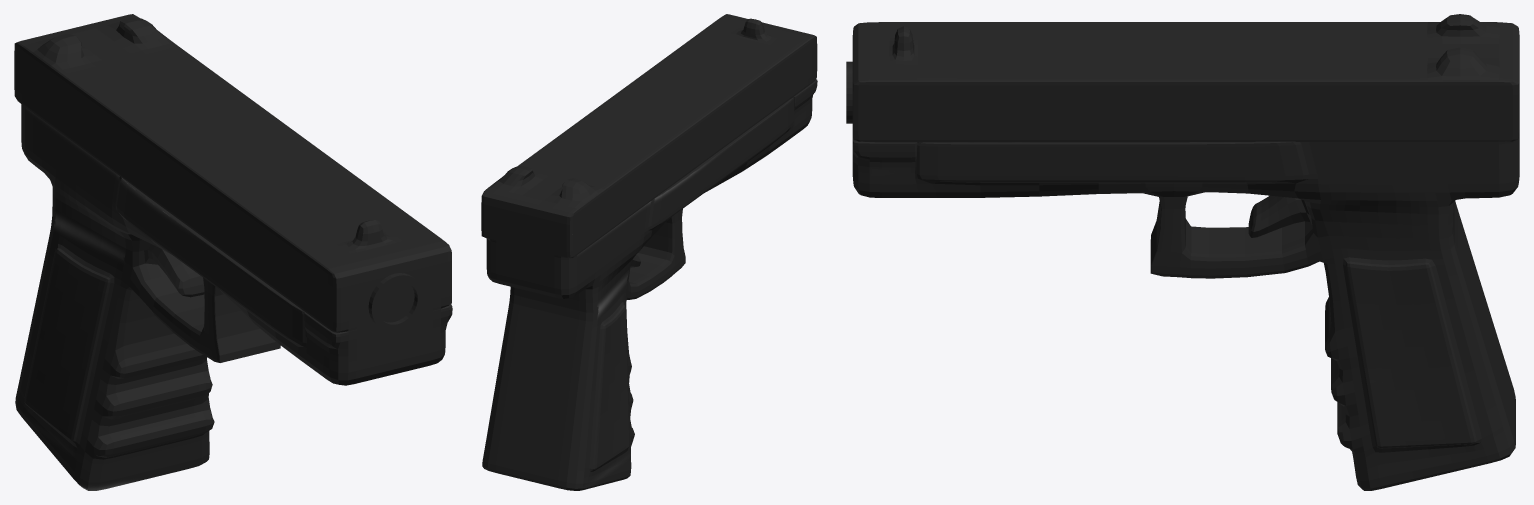
The model's file is _finalGun.fbx.
The picture shows the model from 3 angles, left to right: view 1: azimuth 30°, elevation 25°; view 2: azimuth 150°, elevation 25°; view 3: azimuth 270°, elevation 25°; orthographic projection. The views are drawn at different scales.
Visible parts, largest first — view 1: Gun; view 2: Gun; view 3: Gun.
Boxes of the visible parts, x1,y1,x2,y2 form: Gun: [14, 14, 452, 490]; Gun: [481, 14, 817, 490]; Gun: [846, 14, 1519, 490].
Size of the model in its own units: 243 by 702 by 987.
Materials: 1 (1 with a texture image).
